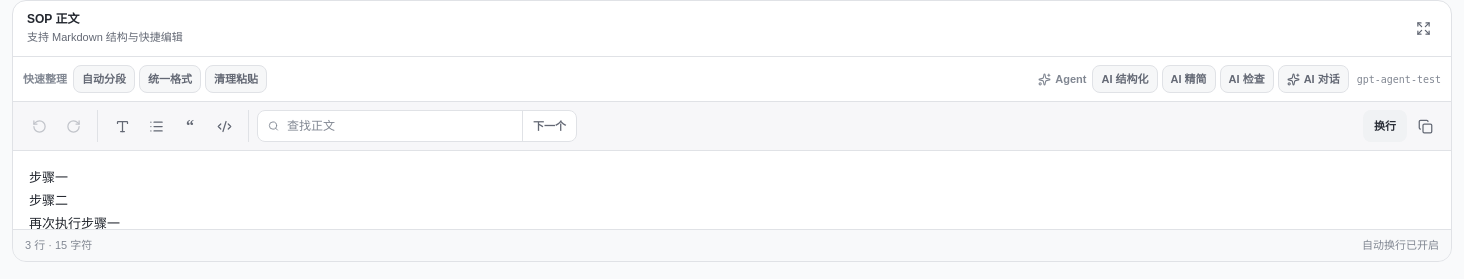
it: SopTextEditor search feedback › shows the match total, current position, and an explicit empty result
The width and height of the screenshot is (1464, 279).
Type "步骤" into the field with placeholder "查找正文" at (400, 126), box top-left (279, 117), bottom-right (522, 135)
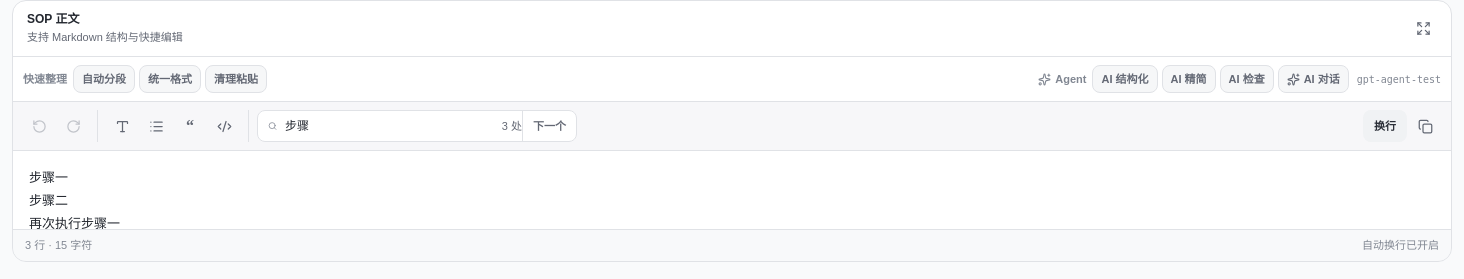
Expected: the message "3 处" is shown, top-left (502, 120), bottom-right (522, 132)
Click the button "下一个" at (549, 126), box top-left (522, 111), bottom-right (576, 141)
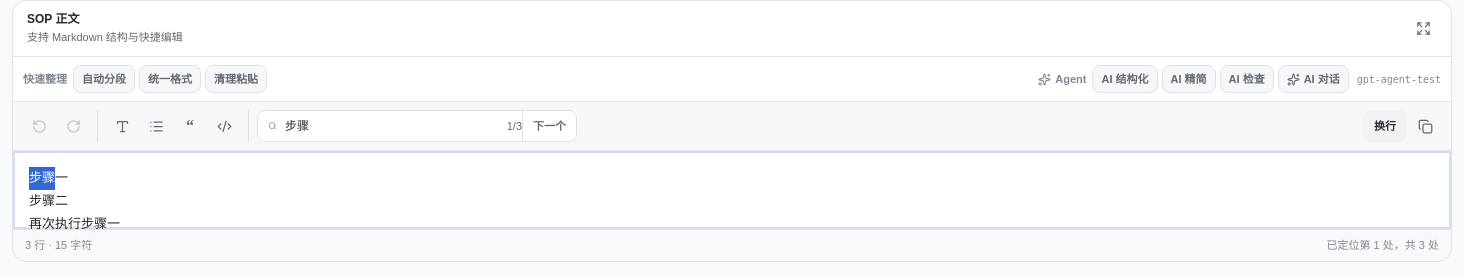
Replace the text in the field named "查找正文" with "不存在" at (380, 126), box top-left (277, 117), bottom-right (482, 135)
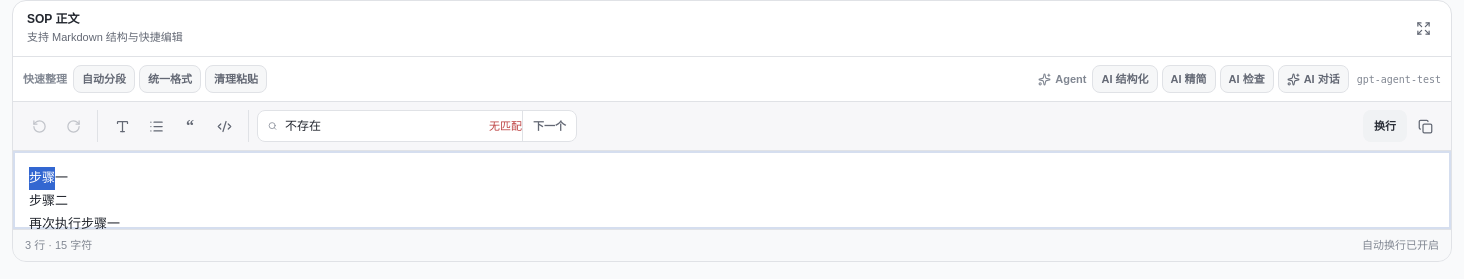
Expected: the message "无匹配" is shown, top-left (489, 120), bottom-right (522, 132)
